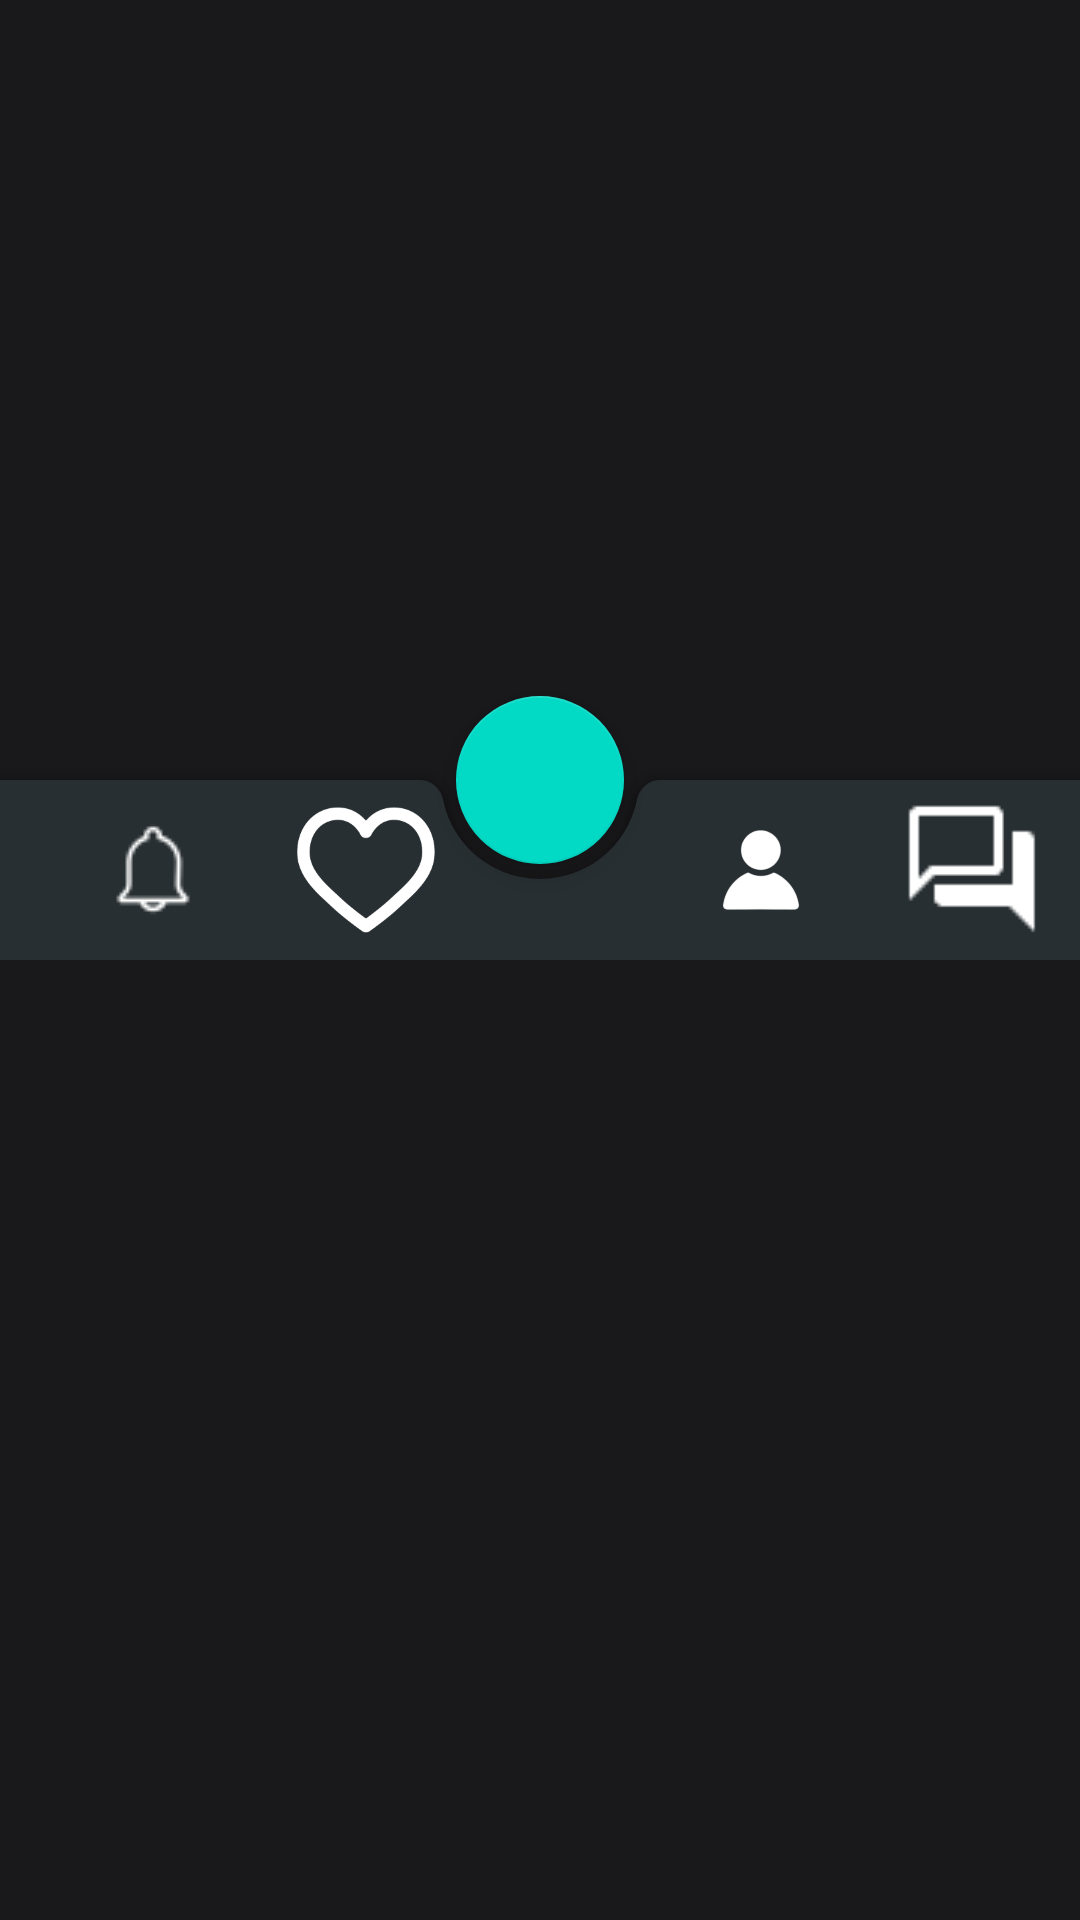

Where to tap for icons on this 1080px×1920px app screen, as [x,y]:
chat: [971,868]
like: [366,870]
not: [153,869]
